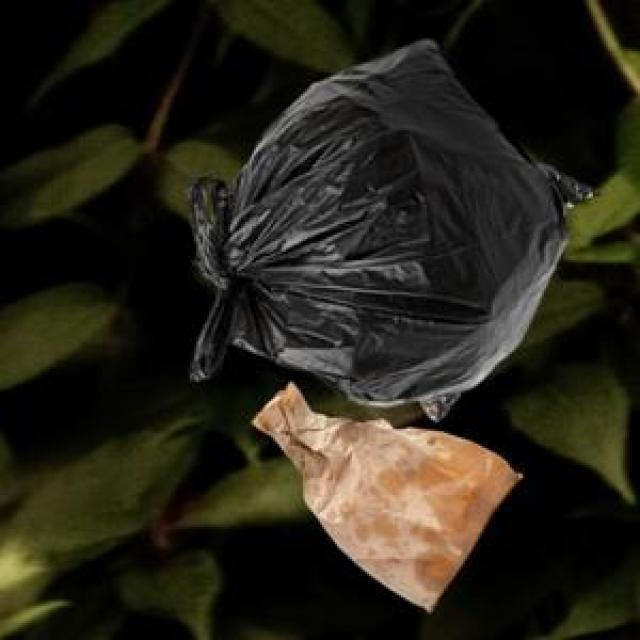miscellaneous trash: (184, 36, 565, 401), (416, 154, 595, 416)
paper: (250, 378, 518, 608)
